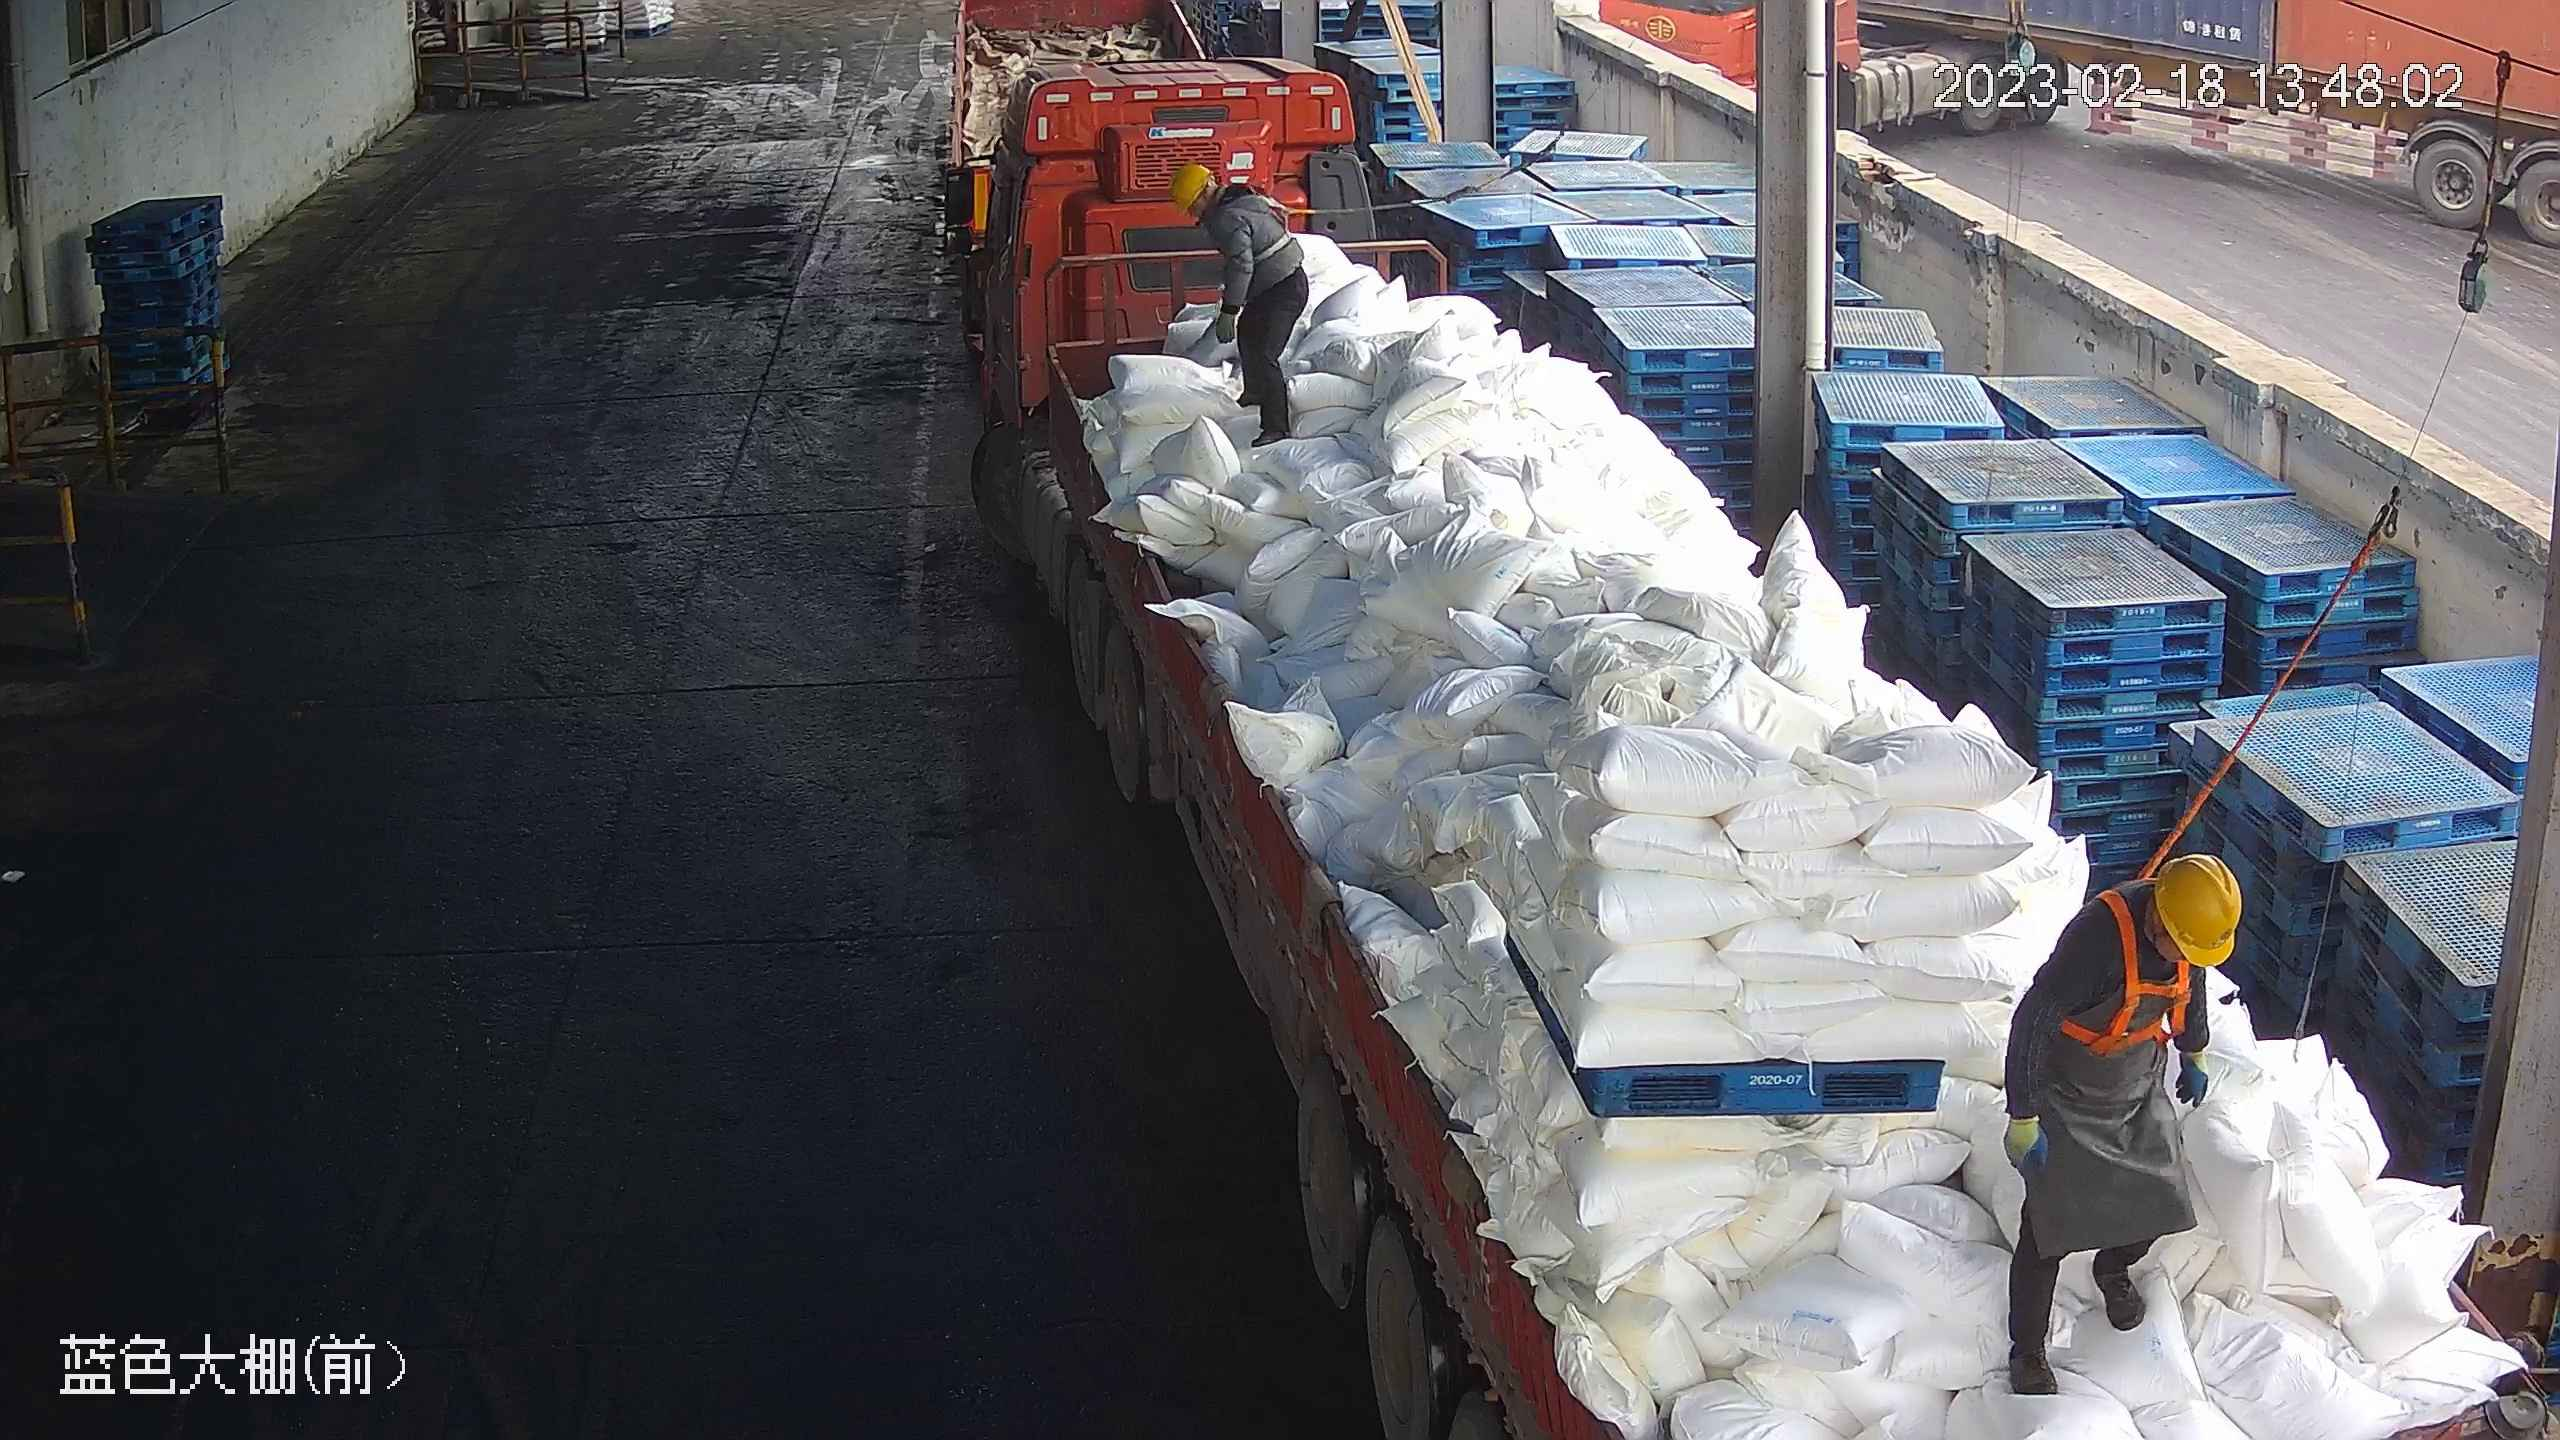belt: (2068, 884, 2203, 1056), (1225, 179, 1307, 255)
head: (2048, 849, 2253, 1019), (1171, 160, 1278, 247)
helmet: (2151, 852, 2243, 967), (1169, 160, 1215, 211)
people: (1991, 851, 2245, 1383), (1169, 158, 1313, 449)
truck: (953, 41, 2555, 1440)
